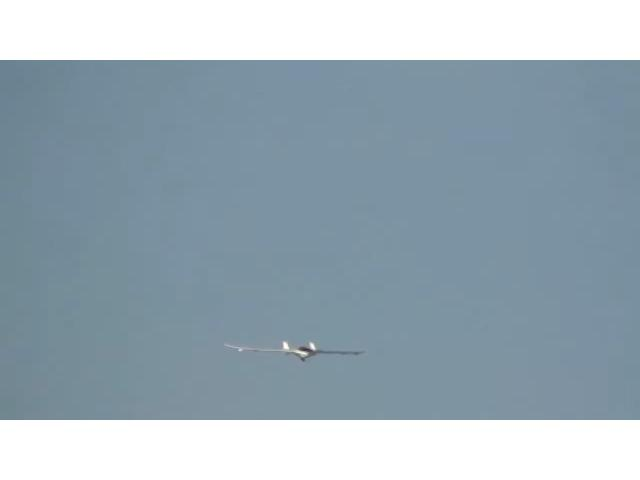Anti-Drone: (226, 342, 366, 360)
